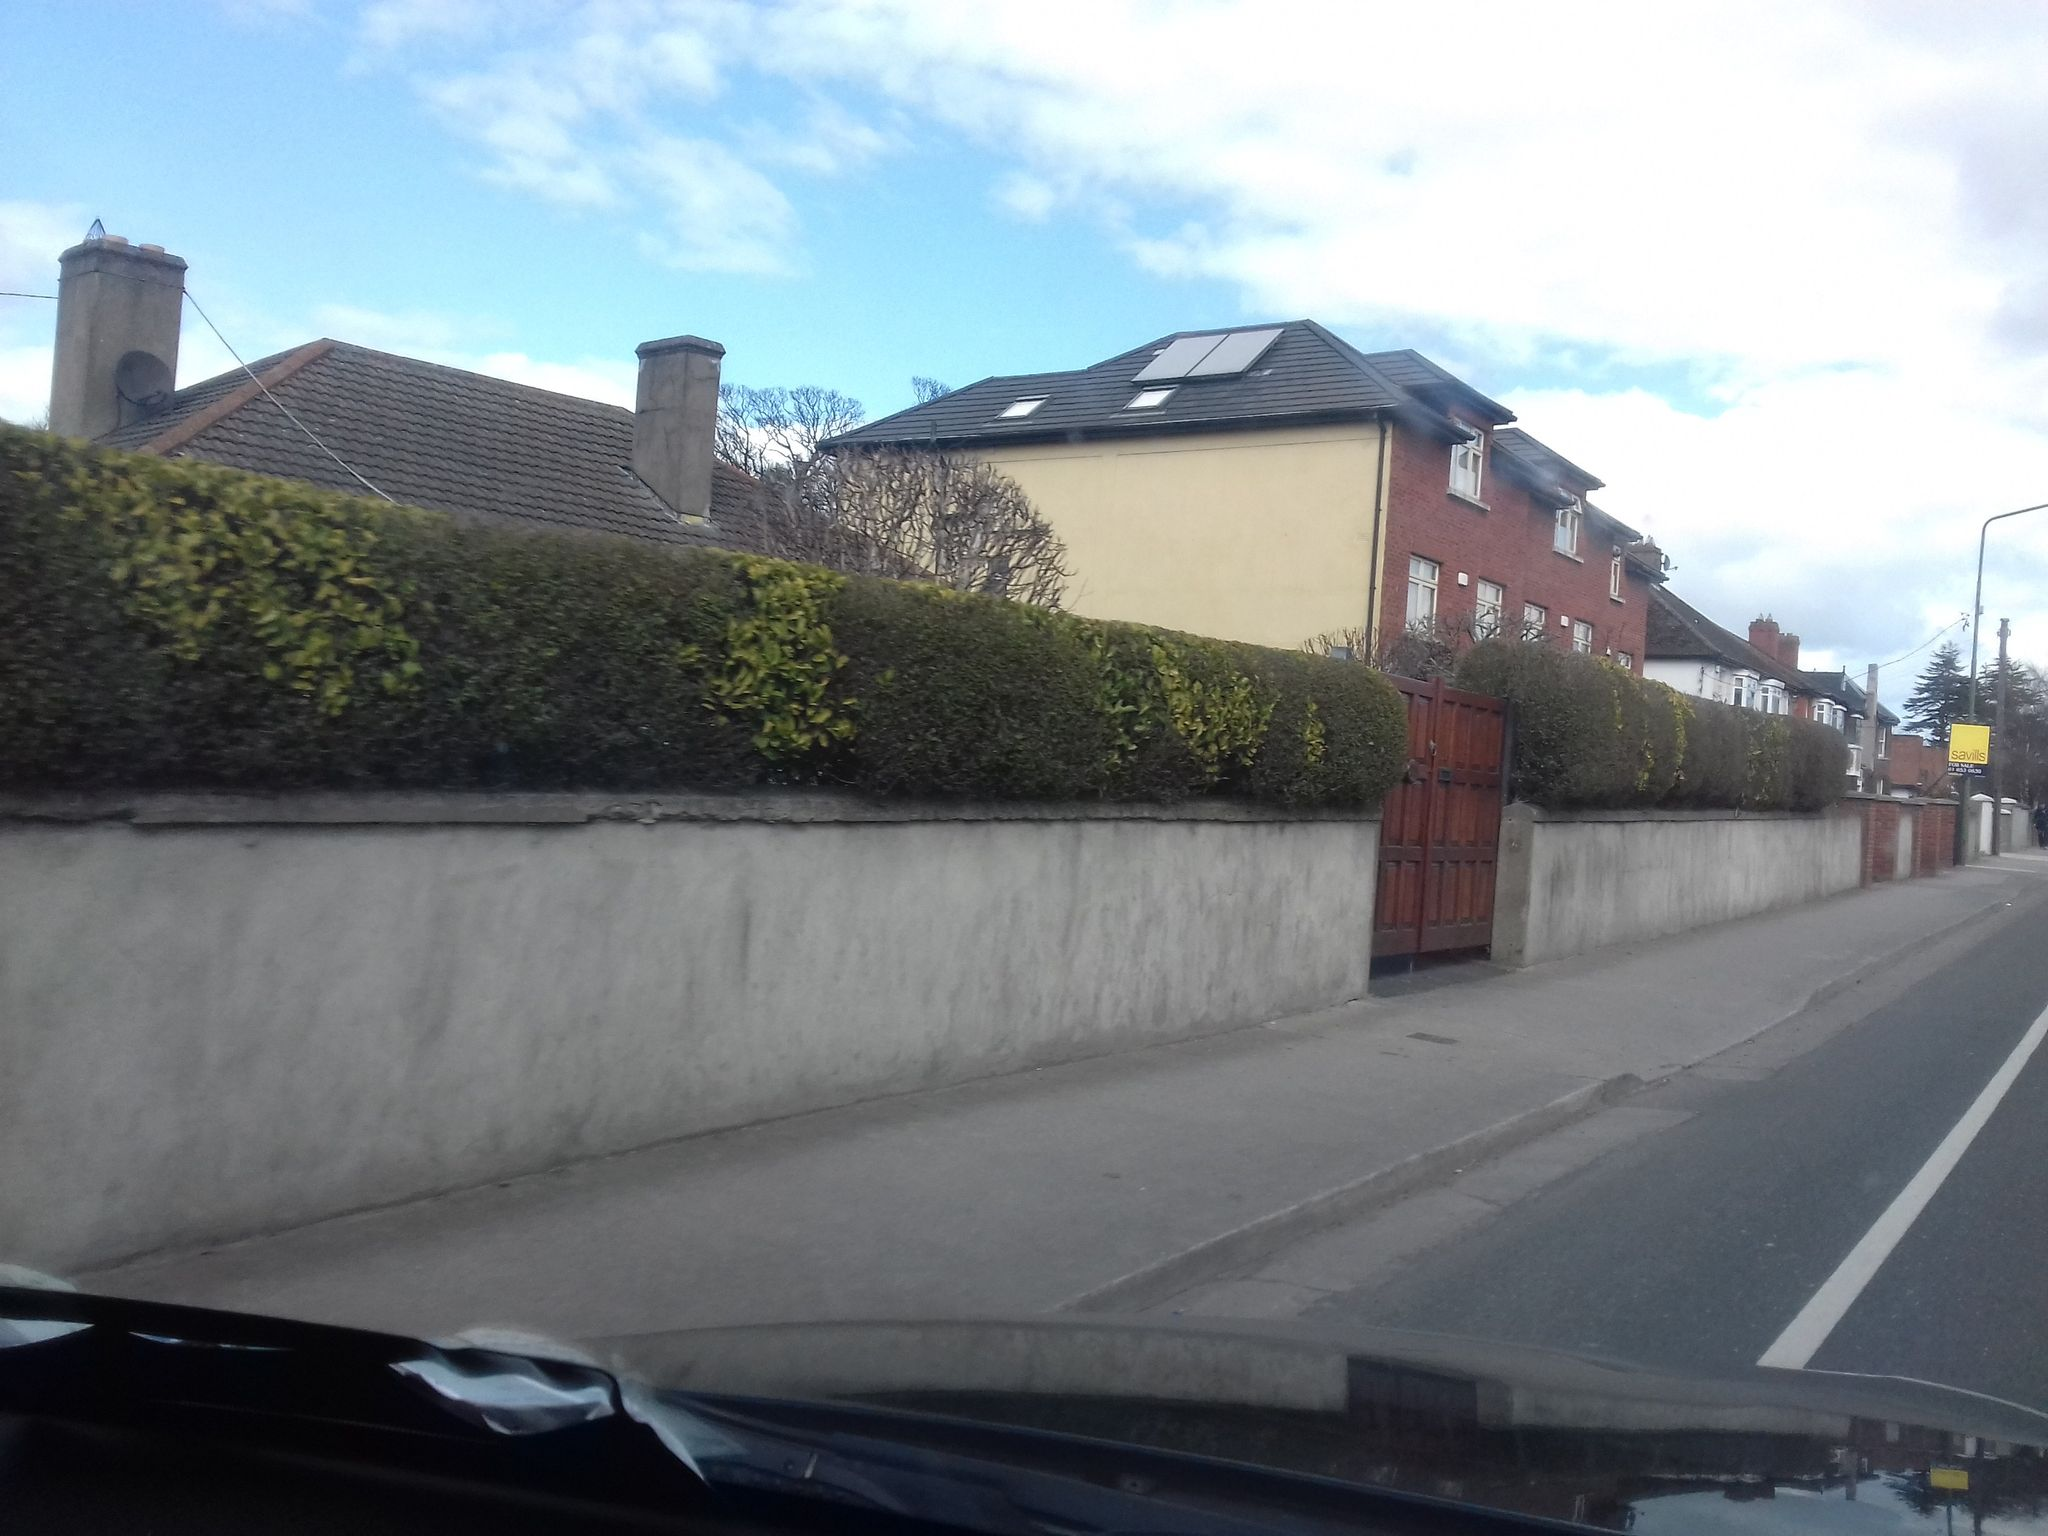property sign: (1930, 710, 2001, 807)
